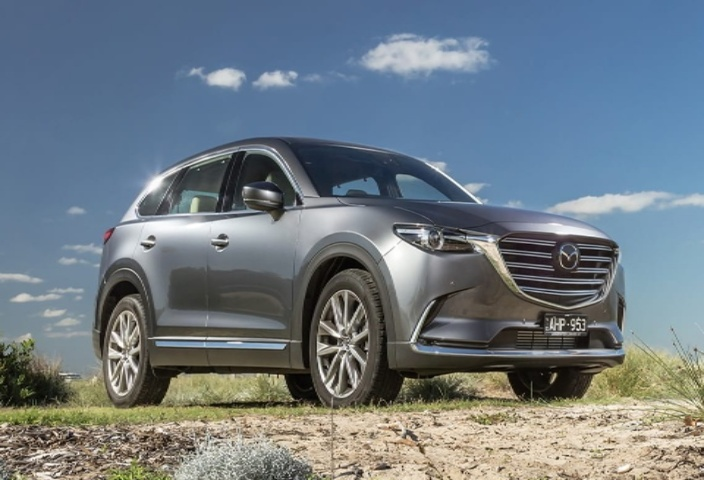camper: (53, 119, 640, 418)
